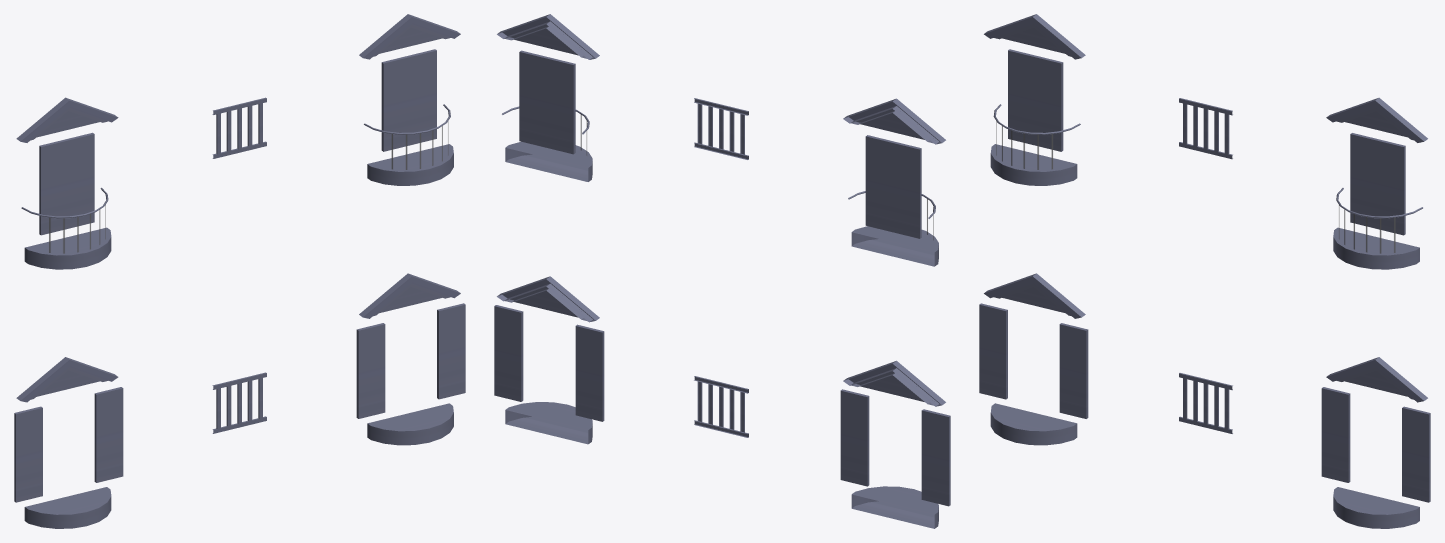
File: objects_un_t06building03_wc2.gltf
3 renders of one model, left to right at view 1: azimuth 30°, elevation 25°; view 2: azimuth 150°, elevation 25°; view 3: azimuth 330°, elevation 25°, orthographic.
Parts seen in each view (by area): view 1: um_objects_un_t06building03_wc2_model_lod0Shape:objects_un_t (×2); view 2: um_objects_un_t06building03_wc2_model_lod0Shape:objects_un_t; view 3: um_objects_un_t06building03_wc2_model_lod0Shape:objects_un_t (×2).
Part boxes in pixels (x1,y1,x2,y2): um_objects_un_t06building03_wc2_model_lod0Shape:objects_un_t (×2): (14,14,465,528); um_objects_un_t06building03_wc2_model_lod0Shape:objects_un_t: (494,14,950,528); um_objects_un_t06building03_wc2_model_lod0Shape:objects_un_t (×2): (979,14,1430,528).
Size of what is drawn, in the model's own units: 8.57 by 7.53 by 0.821.
2 materials, 2 textured.
